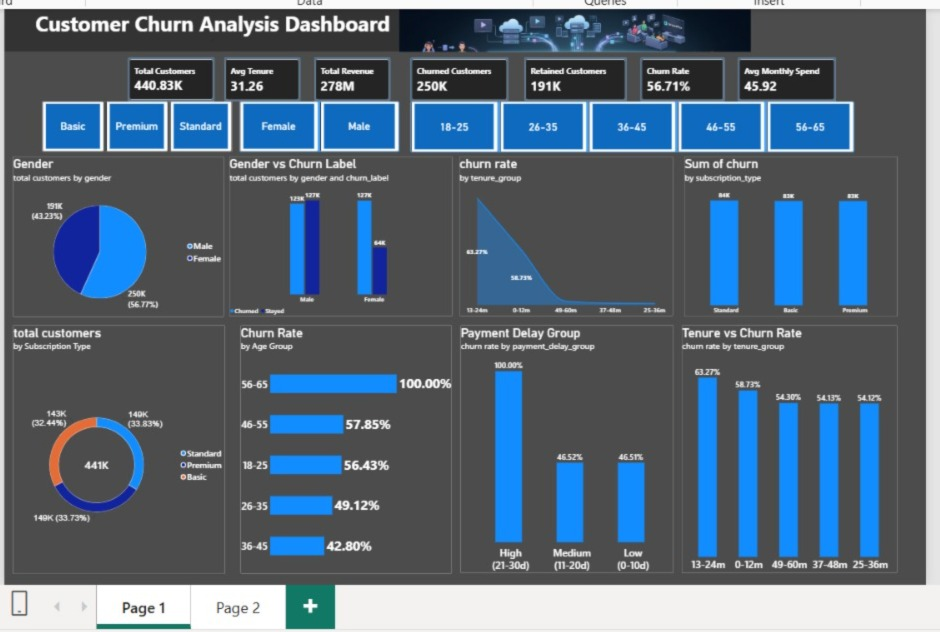

Layout of this report page (visuals, bound fields, positions):
{"tool":"powerbi","page":{"name":"Page 1","canvas":[3200,2000],"ordinal":0},"visuals":[{"type":"cardVisual","fields":{"Data":["measure.churn rate"]},"box":[2212,168,292,152],"z":0},{"type":"cardVisual","fields":{"Data":["measure.total revenue"]},"box":[1076,168,264,152],"z":1000},{"type":"textbox","box":[0,0,1448.1,149],"z":2000},{"type":"cardVisual","fields":{"Data":["measure.total customers"]},"box":[428.6,168.6,300,151.4],"z":3000},{"type":"clusteredBarChart","fields":{"Category":["churn_clean (3).age_group"],"Y":["measure.churn rate"]},"box":[820.8,1100,733.3,862.5],"z":4000},{"type":"donutChart","fields":{"Category":["churn_clean (3).subscription_type"],"Y":["measure.total customers"]},"box":[32.1,1100,735.7,864.3],"z":5000},{"type":"clusteredColumnChart","title":"Tenure vs Churn Rate","fields":{"Category":["churn_clean (3).tenure_group"],"Y":["measure.churn rate"]},"box":[2352.2,1100,747.8,860.9],"z":7000},{"type":"advancedSlicerVisual","title":"Gender","fields":{"Values":["churn_clean (3).gender"]},"box":[816,320,555.6,174.1],"z":8000},{"type":"clusteredColumnChart","title":"Payment Delay Group","fields":{"Category":["churn_clean (3).payment_delay_group"],"Y":["measure.churn rate"]},"box":[1582.6,1100,739.1,860.9],"z":9000},{"type":"cardVisual","fields":{"Data":["measure.avg monthly spend"]},"box":[2548,168,340,152],"z":10000},{"type":"cardVisual","fields":{"Data":["measure.avg tenure"]},"box":[764,168,264,152],"z":11000},{"type":"pieChart","title":"Gender","fields":{"Category":["churn_clean (3).gender"],"Y":["measure.total customers"]},"box":[32.1,510.7,732.1,557.1],"z":12000},{"type":"advancedSlicerVisual","title":"Age Group","fields":{"Values":["churn_clean (3).age_group"]},"box":[1412,320,1540,176],"z":13000},{"type":"advancedSlicerVisual","title":"Subscription Type","fields":{"Values":["churn_clean (3).subscription_type"]},"box":[132,320,663,174.1],"z":14000},{"type":"cardVisual","fields":{"Data":["measure.Churned Customers"]},"box":[1412,168,340,152],"z":15000},{"type":"cardVisual","fields":{"Data":["churn_clean (3).Retained Customers"]},"box":[1808,168,356,152],"z":16000},{"type":"clusteredColumnChart","fields":{"Category":["churn_clean (3).subscription_type"],"Y":["Sum(churn_clean (3).churn)"]},"box":[2360,512,740,556],"z":17000},{"type":"stackedAreaChart","fields":{"Category":["churn_clean (3).tenure_group"],"Y":["measure.churn rate"]},"box":[1579.2,512.5,741.7,554.2],"z":18000},{"type":"image","box":[1370.8,0,1220.8,150],"z":19000},{"type":"clusteredColumnChart","title":"Gender vs Churn Label","fields":{"Category":["churn_clean (3).gender"],"Series":["churn_clean (3).churn_label"],"Y":["measure.total customers"]},"box":[781.5,511.1,774.1,555.6],"z":19001}]}

Visuals, with their boxes on the page's 3200x2000 design canvas (x1, y1, x2, y2). These are canvas units, not pixel positions in the 940x632 screenshot, which may show the page scaled, cropped or inside an application window:
cardVisual - measure.churn rate: region(2212, 168, 2504, 320)
cardVisual - measure.total revenue: region(1076, 168, 1340, 320)
textbox: region(0, 0, 1448, 149)
cardVisual - measure.total customers: region(429, 169, 729, 320)
clusteredBarChart - churn_clean (3).age_group x measure.churn rate: region(821, 1100, 1554, 1962)
donutChart - churn_clean (3).subscription_type x measure.total customers: region(32, 1100, 768, 1964)
"Tenure vs Churn Rate" clusteredColumnChart: region(2352, 1100, 3100, 1961)
"Gender" advancedSlicerVisual: region(816, 320, 1372, 494)
"Payment Delay Group" clusteredColumnChart: region(1583, 1100, 2322, 1961)
cardVisual - measure.avg monthly spend: region(2548, 168, 2888, 320)
cardVisual - measure.avg tenure: region(764, 168, 1028, 320)
"Gender" pieChart: region(32, 511, 764, 1068)
"Age Group" advancedSlicerVisual: region(1412, 320, 2952, 496)
"Subscription Type" advancedSlicerVisual: region(132, 320, 795, 494)
cardVisual - measure.Churned Customers: region(1412, 168, 1752, 320)
cardVisual - churn_clean (3).Retained Customers: region(1808, 168, 2164, 320)
clusteredColumnChart - churn_clean (3).subscription_type x Sum(churn_clean (3).churn): region(2360, 512, 3100, 1068)
stackedAreaChart - churn_clean (3).tenure_group x measure.churn rate: region(1579, 512, 2321, 1067)
image: region(1371, 0, 2592, 150)
"Gender vs Churn Label" clusteredColumnChart: region(782, 511, 1556, 1067)
